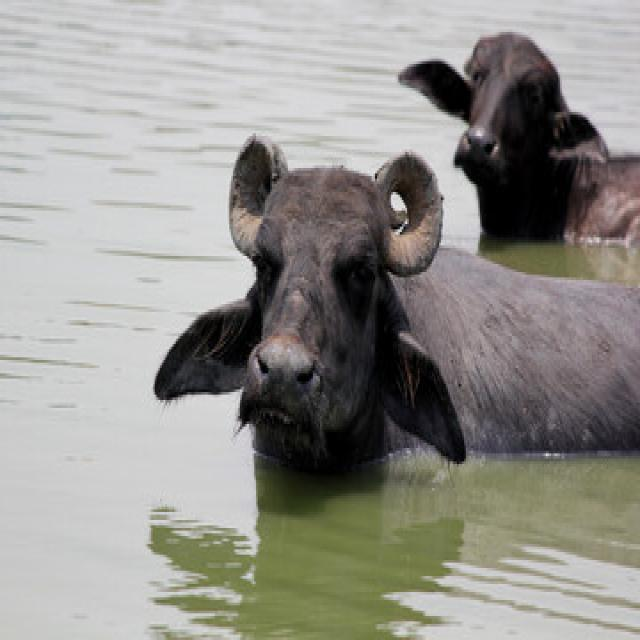Buffalo: (156, 133, 640, 448)
